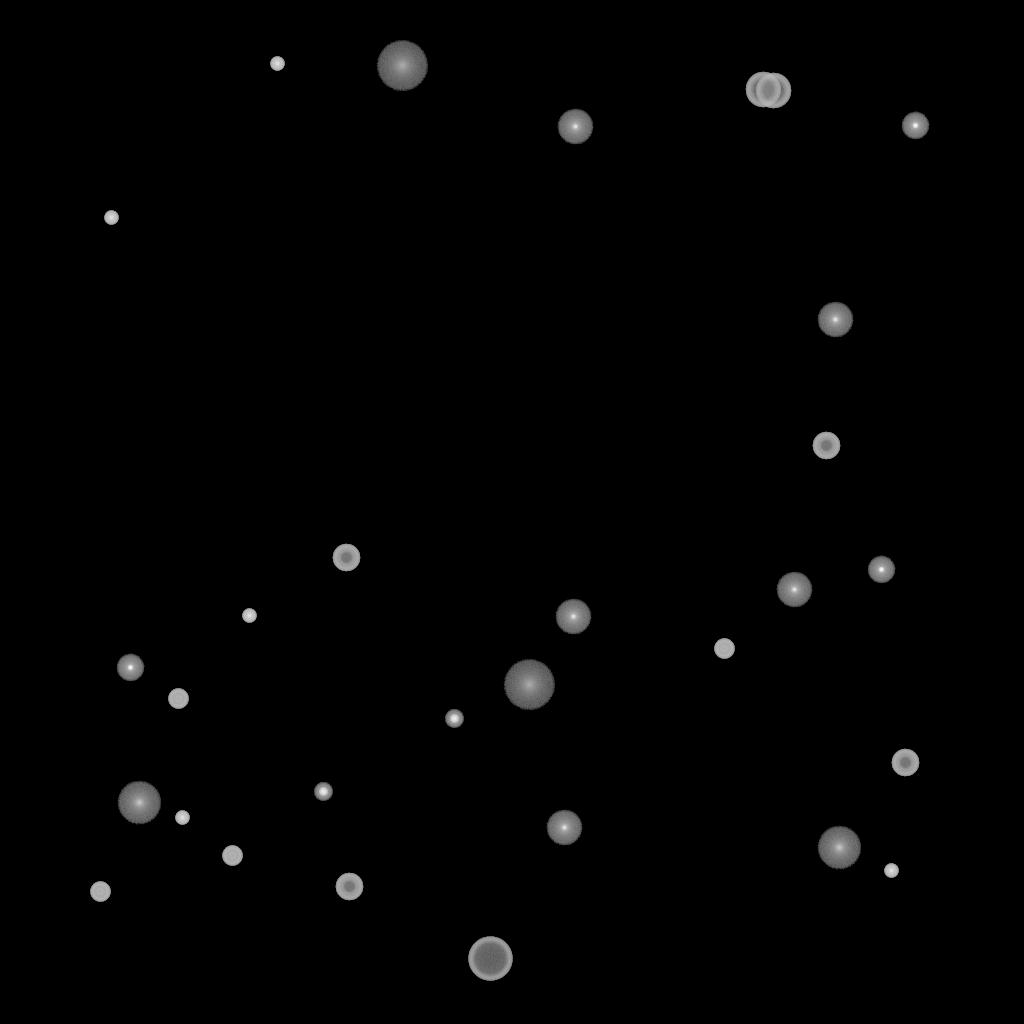depth:-10: (867, 556, 895, 584), (901, 112, 929, 140), (116, 654, 144, 682)
depth:-20: (314, 783, 332, 801), (445, 710, 463, 728)
depth:-30: (270, 57, 284, 71), (242, 609, 256, 623), (175, 811, 189, 825), (884, 864, 898, 878), (104, 211, 118, 225)
depth:-40: (222, 846, 242, 866), (714, 639, 734, 659), (90, 882, 110, 902), (168, 689, 188, 709)
depth:-50: (332, 544, 360, 572), (335, 873, 363, 901), (812, 432, 840, 460), (891, 749, 919, 777)
depth:-60: (755, 73, 791, 109), (745, 72, 781, 108)
depth:-70: (468, 937, 512, 981)
depth:0: (546, 810, 582, 846), (557, 109, 593, 145), (817, 302, 853, 338), (776, 572, 812, 608), (555, 599, 591, 635)
depth:10: (817, 826, 861, 870), (117, 781, 161, 825)
depth:20: (503, 660, 555, 710), (376, 41, 428, 91)
